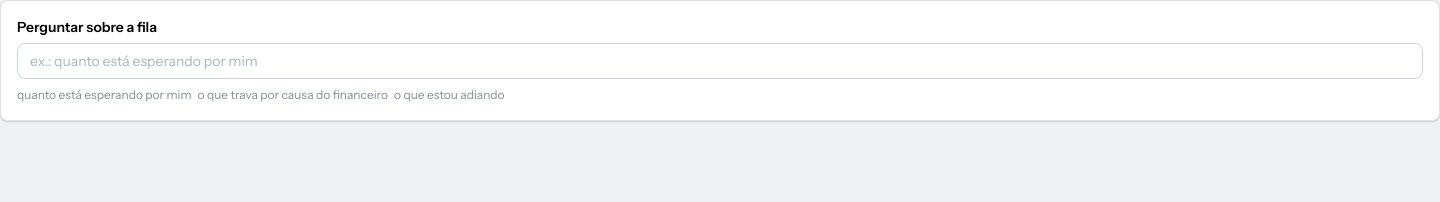
it: ConsultaBox › mostra a resposta e os itens da consulta
In the field with test id "consulta-input": [720, 61] box [17, 43, 1423, 79], type "quanto está esperando por mim"
Then press Enter
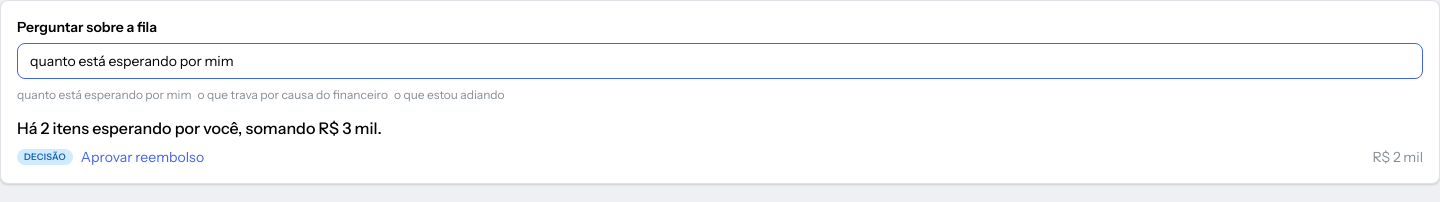
Expected: the element with test id "consulta-resposta" shows "esperando por você", [17, 118, 382, 138]
Expected: the link "Aprovar reembolso" is shown, [81, 147, 204, 167]
